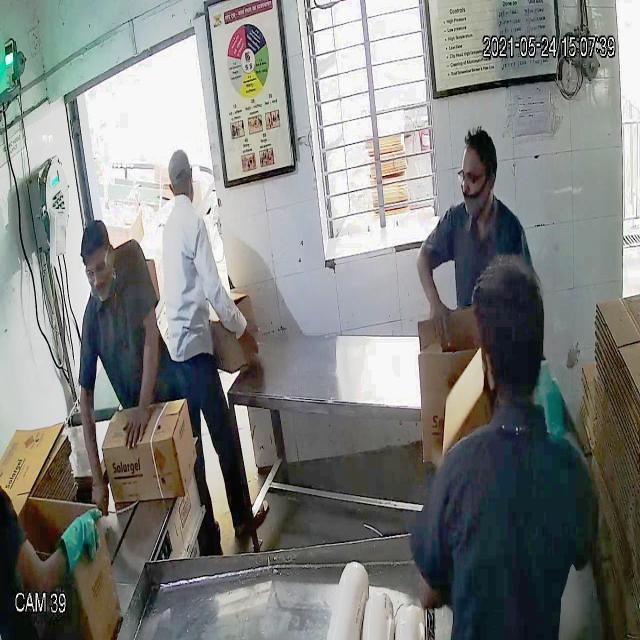glasses: (80, 248, 112, 284), (455, 163, 493, 193)
